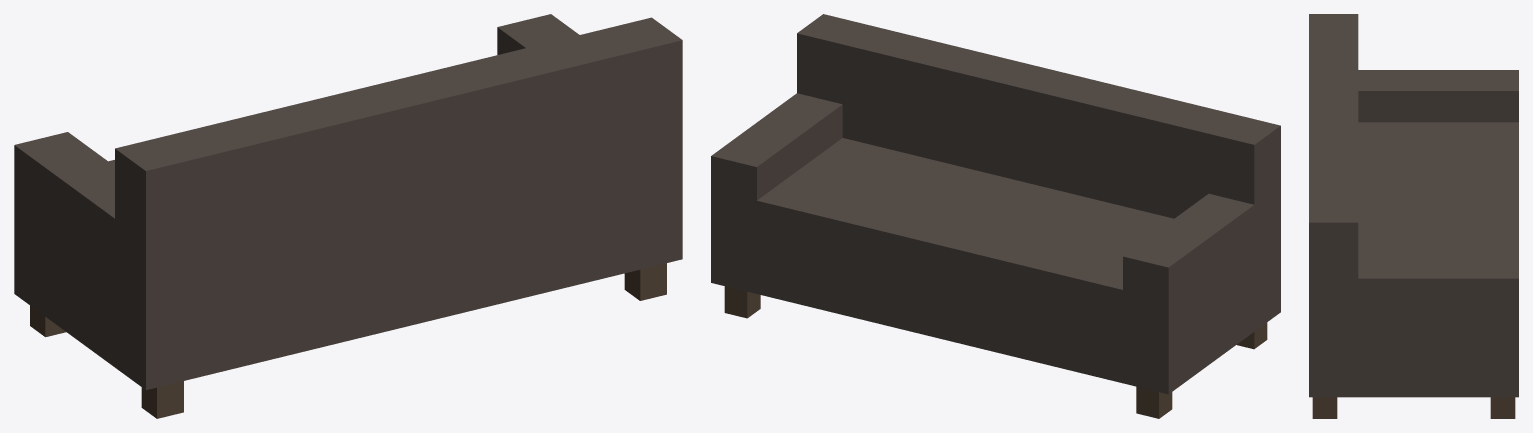
File: couch.glb
3 views of the same model, side by side, from view 1: azimuth 30°, elevation 25°; view 2: azimuth 150°, elevation 25°; view 3: azimuth 270°, elevation 25° (orthographic). The views are drawn at different scales.
Visible parts, largest first — view 1: couch; view 2: couch; view 3: couch.
Boxes of the visible parts, <box> form: couch: <box>14,14,682,418</box>; couch: <box>711,14,1280,418</box>; couch: <box>1309,14,1518,418</box>.
Bounding box in the file's own units: 2 × 0.9 × 0.85.
